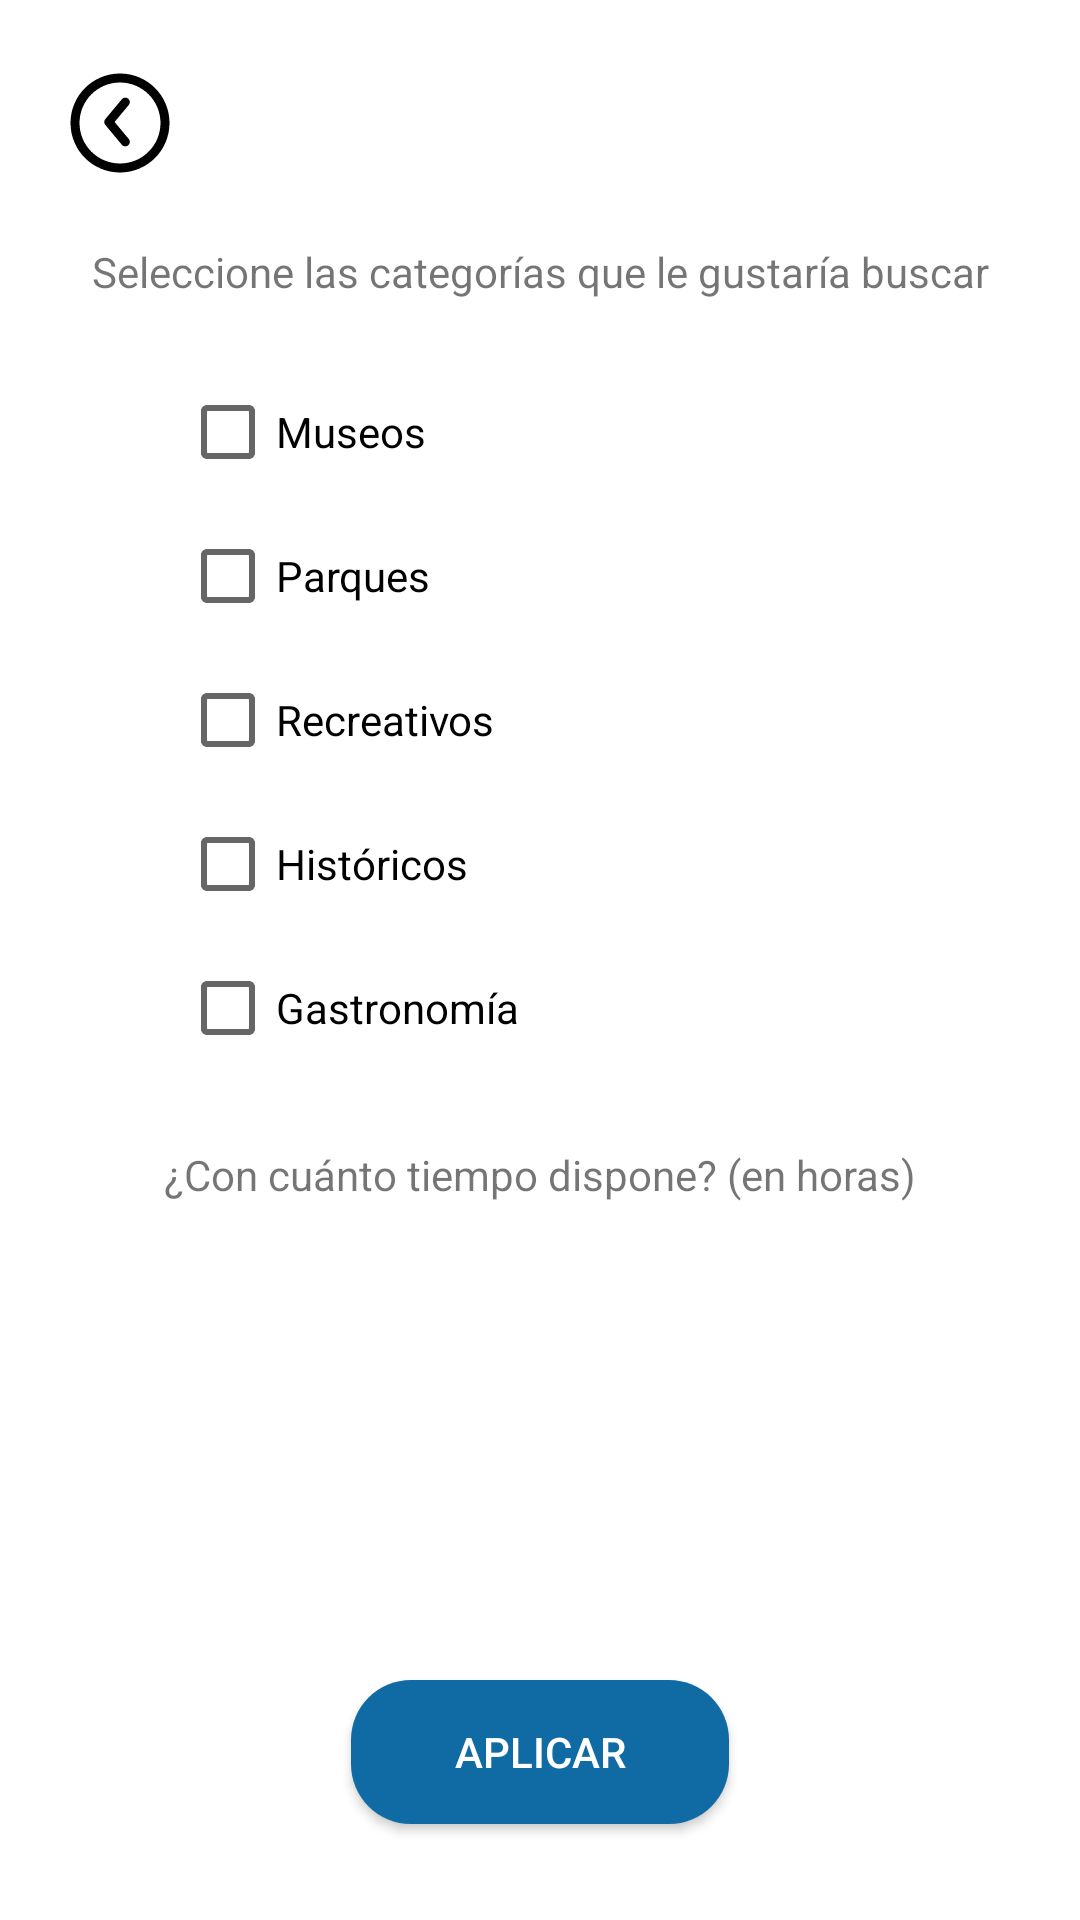

Icon bounding boxes for this 1080*1920 phone screenshot, format (x1, y1, x2, y2):
back: (70, 73, 170, 173)
